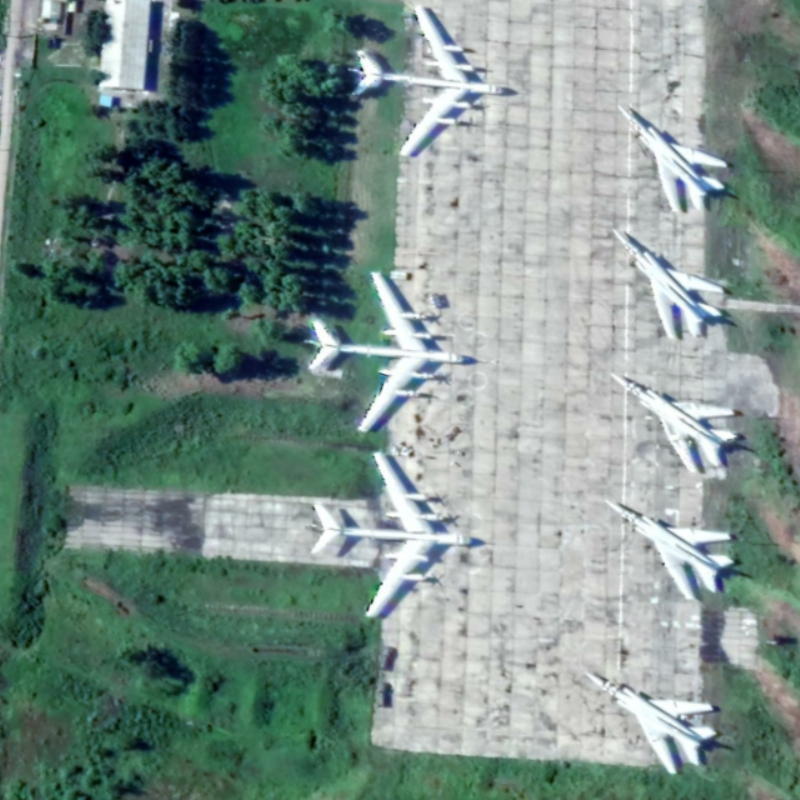A12: (577, 661, 723, 783), (602, 495, 736, 602), (607, 370, 741, 476), (611, 226, 728, 344), (615, 102, 729, 214)
A17: (307, 449, 474, 622), (302, 269, 471, 436), (345, 3, 509, 159)
